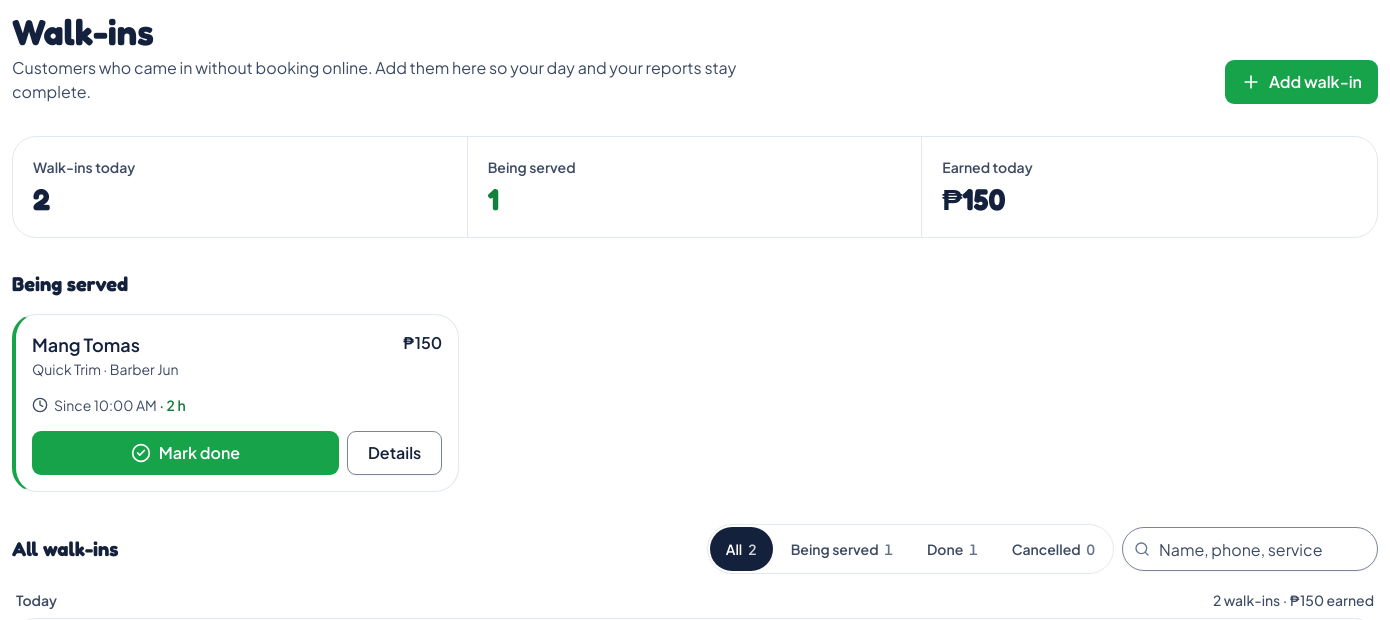
Test: WalkInsManager component › says so when marking done fails
Click the button "Mark done": (186, 453) top-left (32, 431), bottom-right (339, 475)
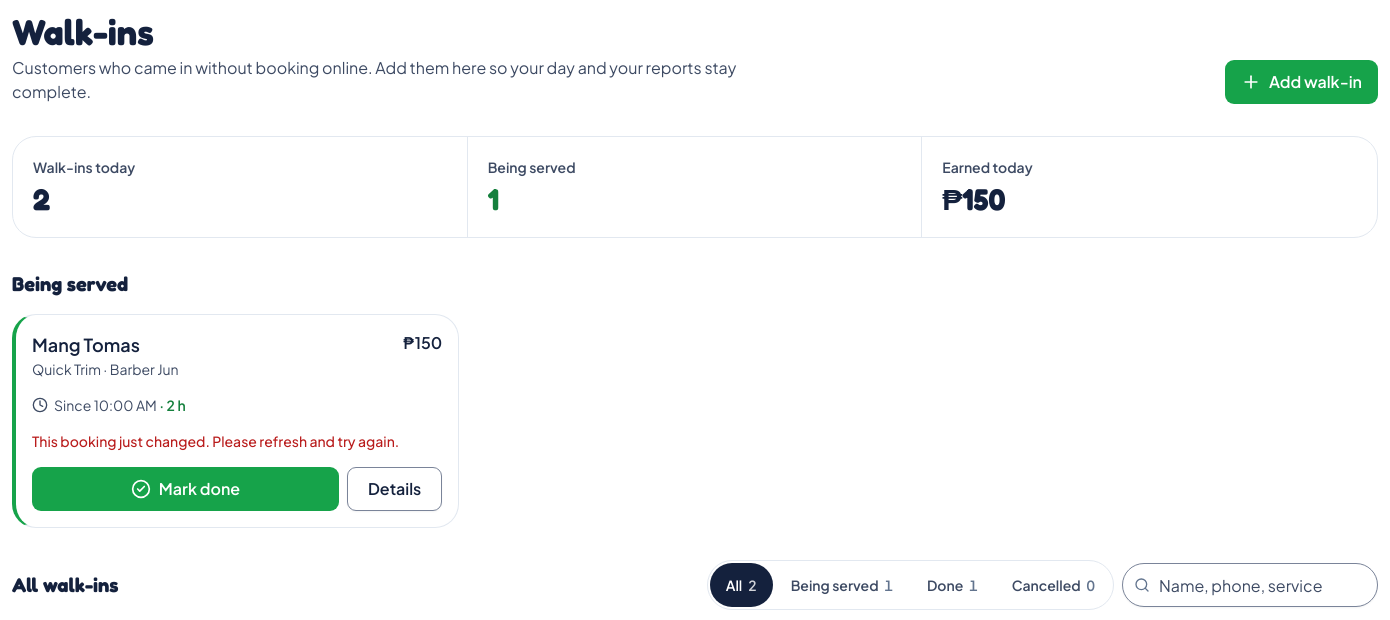
Result: the message shows "This booking just changed" at top-left (32, 432), bottom-right (399, 450)
